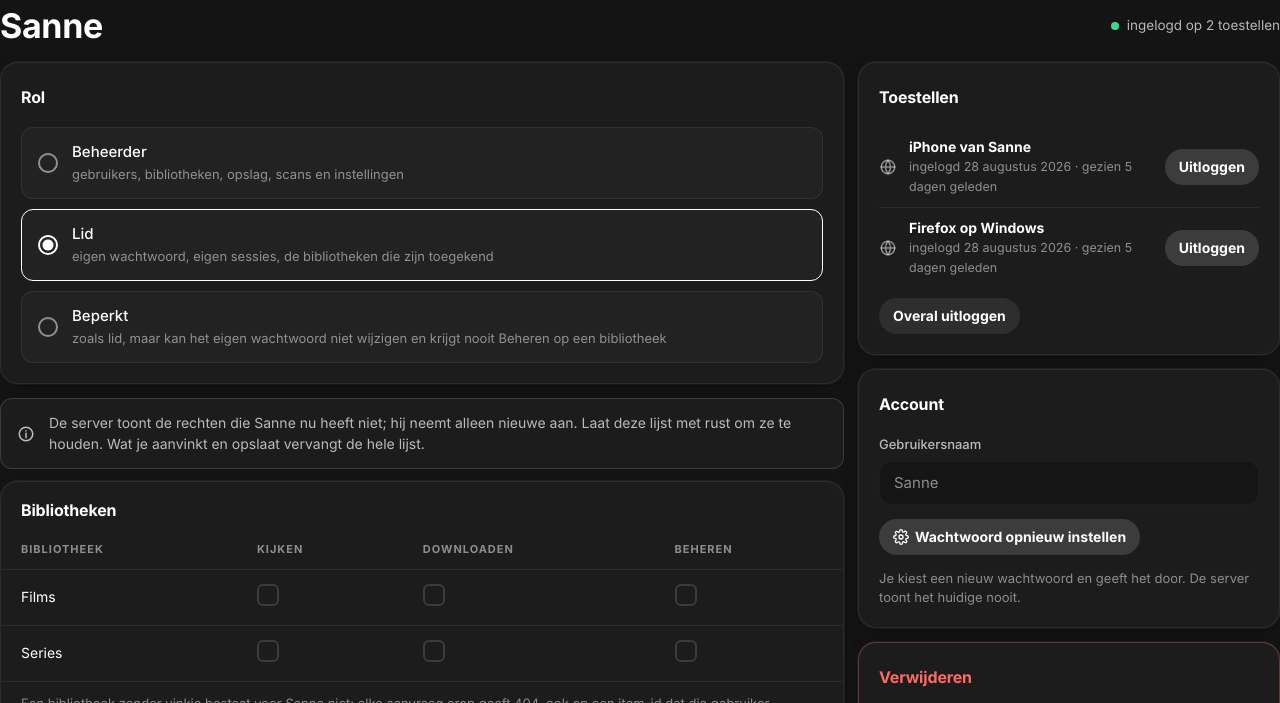
bibliotheekrechten › vervangt de rechtenlijst nooit zonder bevestiging en noemt wat er komt te staan
The width and height of the screenshot is (1280, 703).
Click the checkbox named "Films, Kijken" at point(268, 595), box 257,584 -> 279,606
(page scrolled)
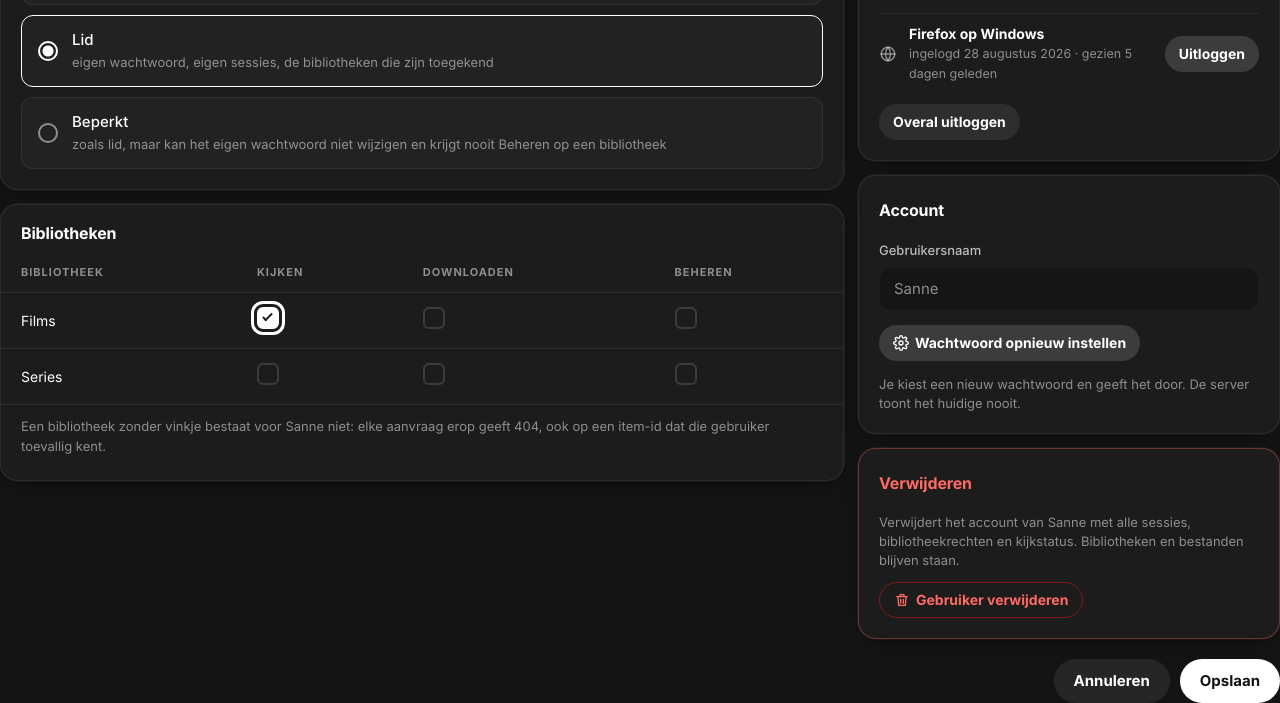
Click the button "Opslaan" at point(1230, 681), box 1180,659 -> 1279,702
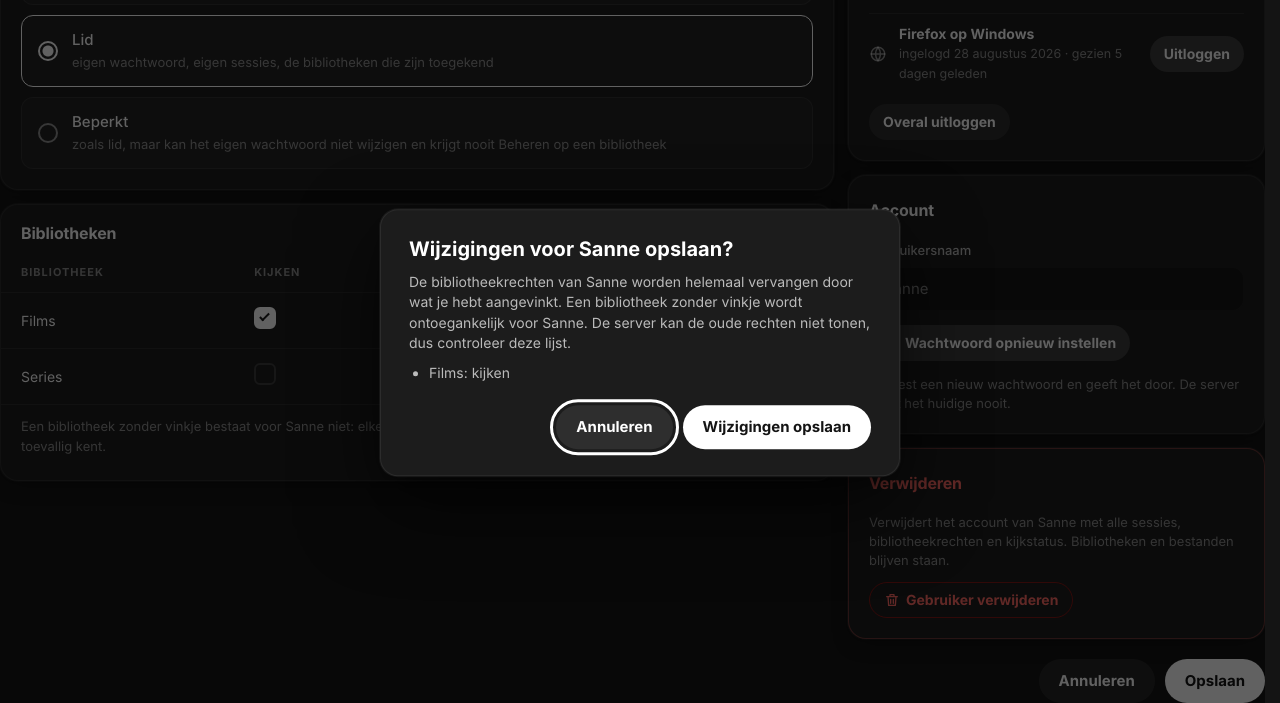
Result: the dialog shows "vervangen" at 409,273 -> 870,351
Result: the list item "Films: kijken" is shown at 429,364 -> 510,381
Click the button "Annuleren" at point(614, 428), box 556,406 -> 672,450
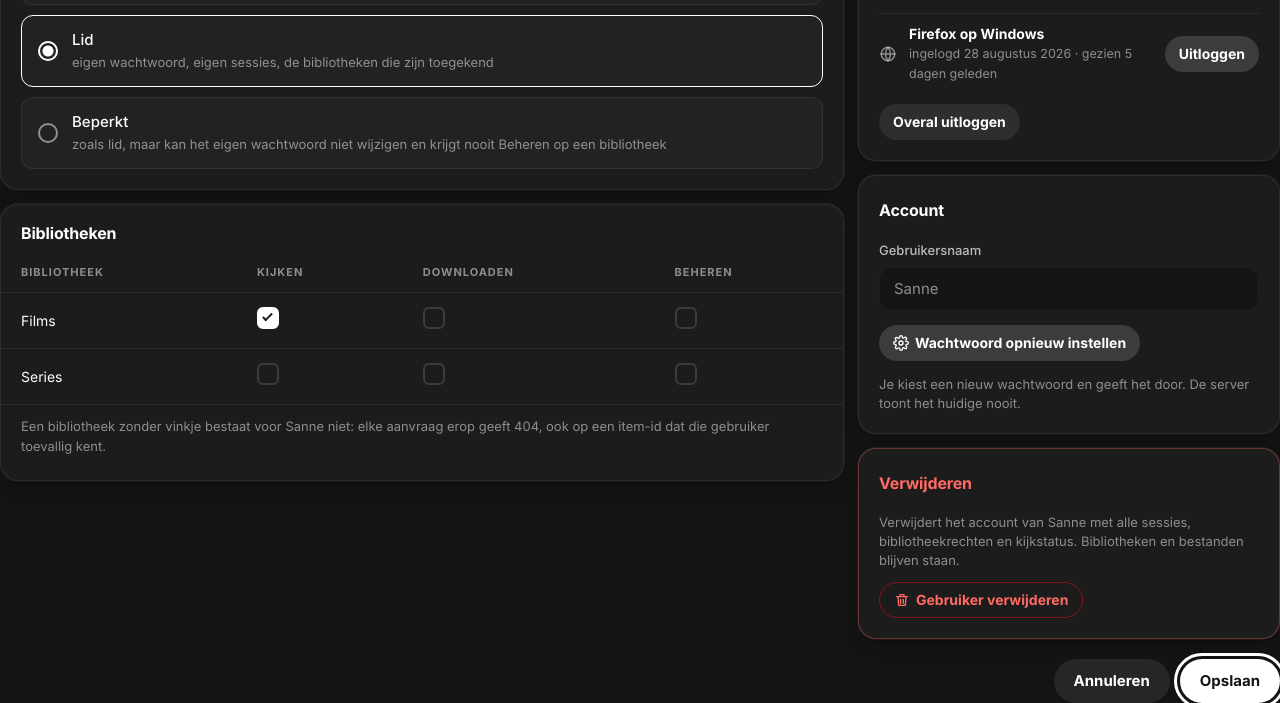
Click the button "Opslaan" at point(1230, 681), box 1180,659 -> 1279,702
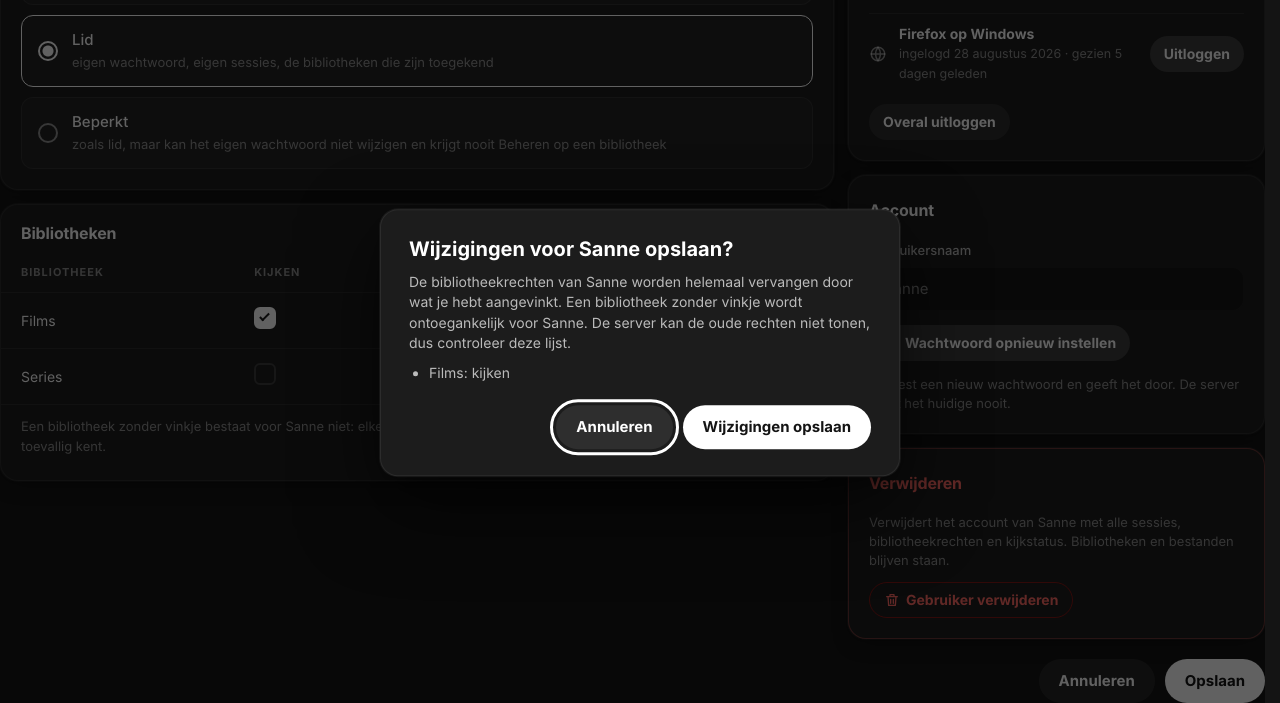
Click the button "Wijzigingen opslaan" at point(777, 428), box 683,406 -> 871,450
(page scrolled)
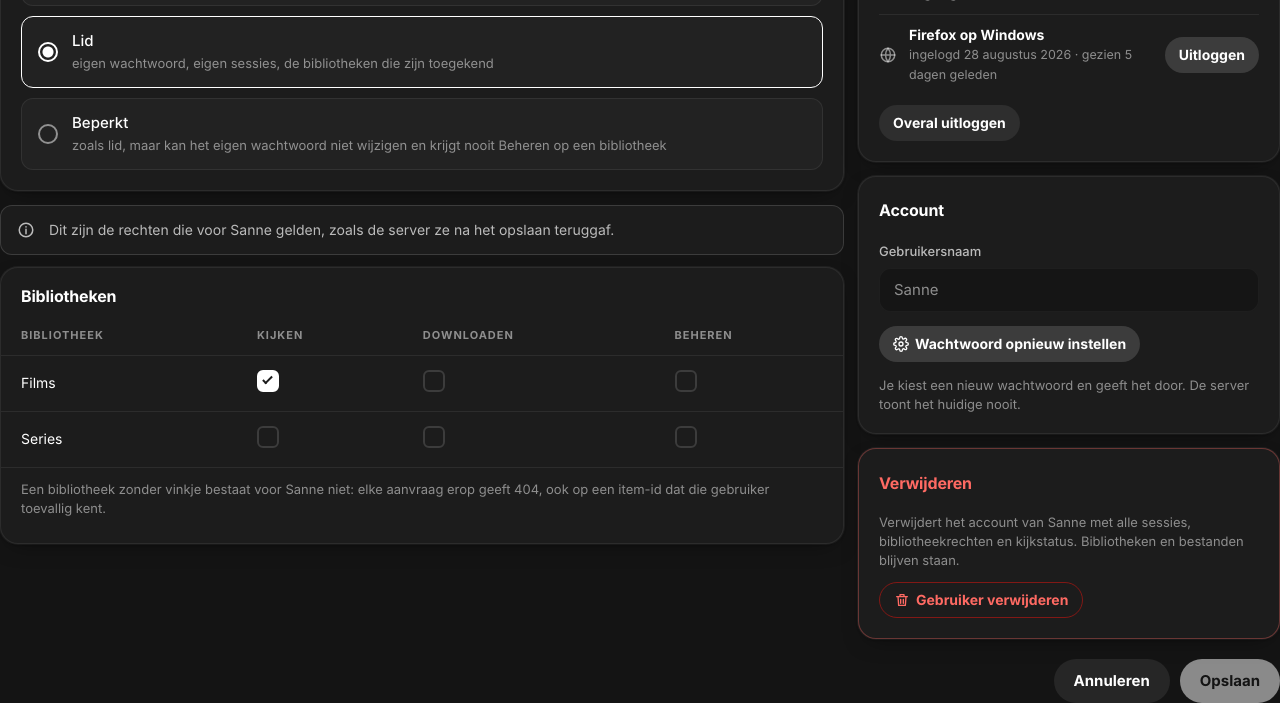
Result: the text "zoals de server ze na het opslaan teruggaf" is shown at 49,221 -> 614,238
